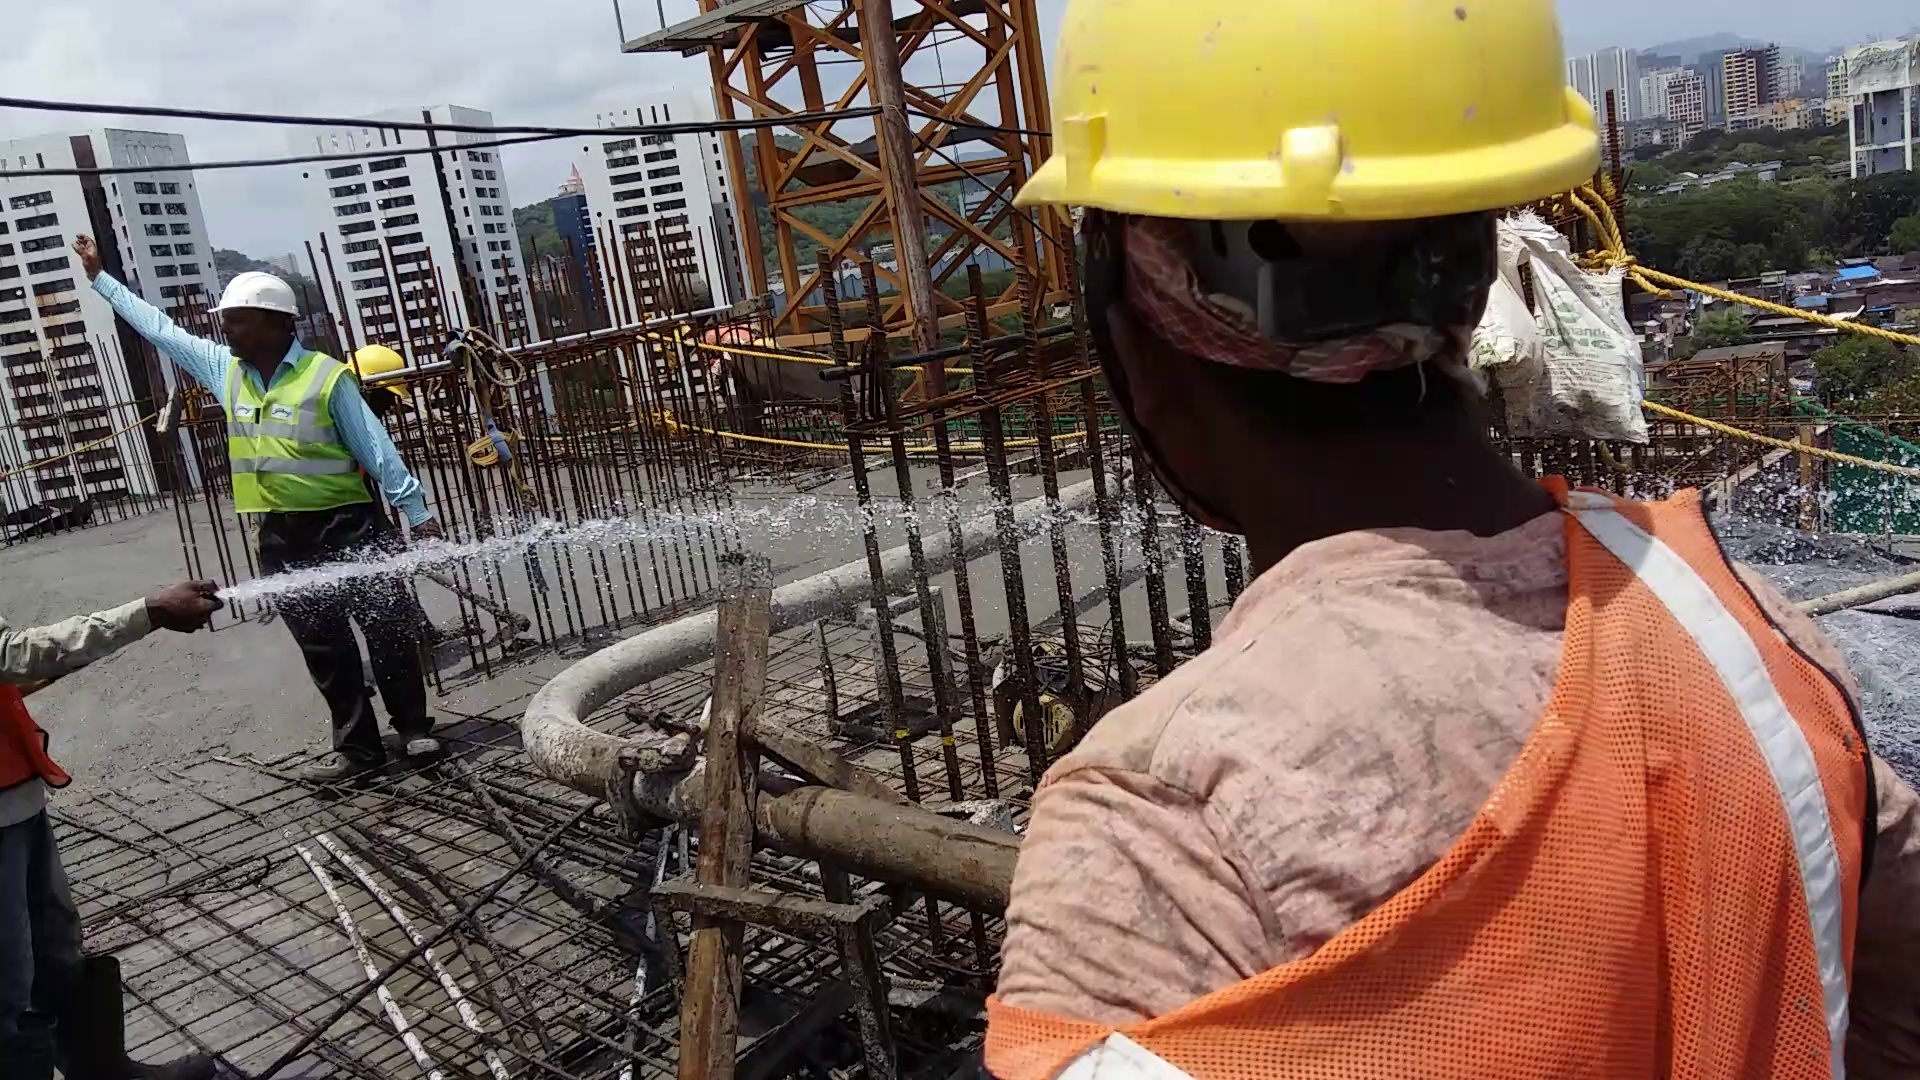SAFE: (978, 3, 1880, 1080), (214, 266, 377, 531)
